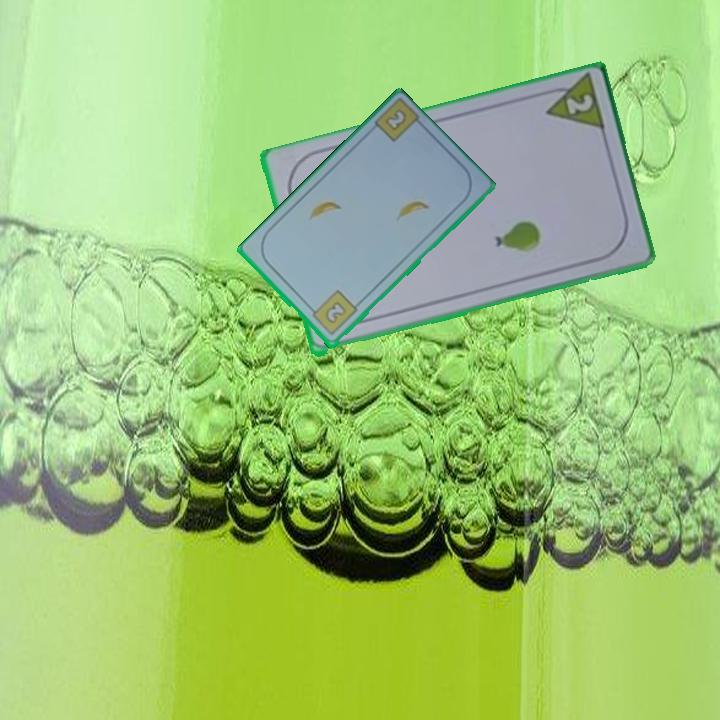2b: (306, 287, 360, 339), (381, 106, 410, 134)
2p: (562, 91, 596, 118)
